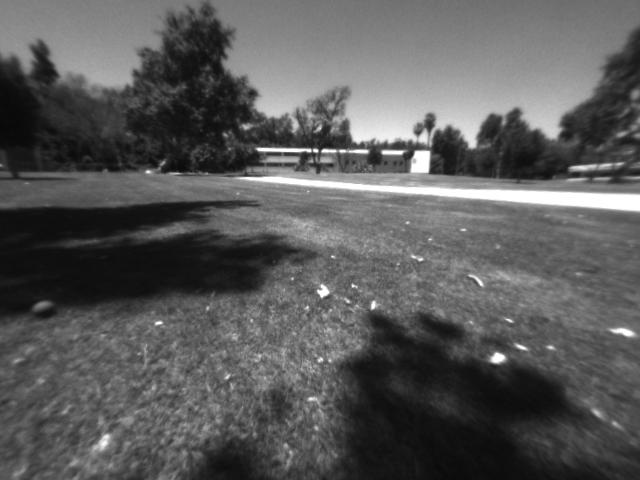dogtoy: (25, 299, 60, 318)
